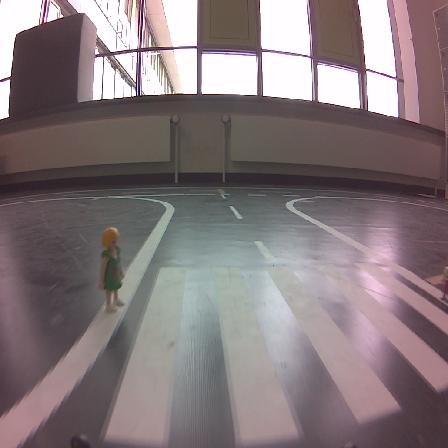CHILD: (442, 265, 447, 300)
PERSON: (99, 227, 124, 311)
